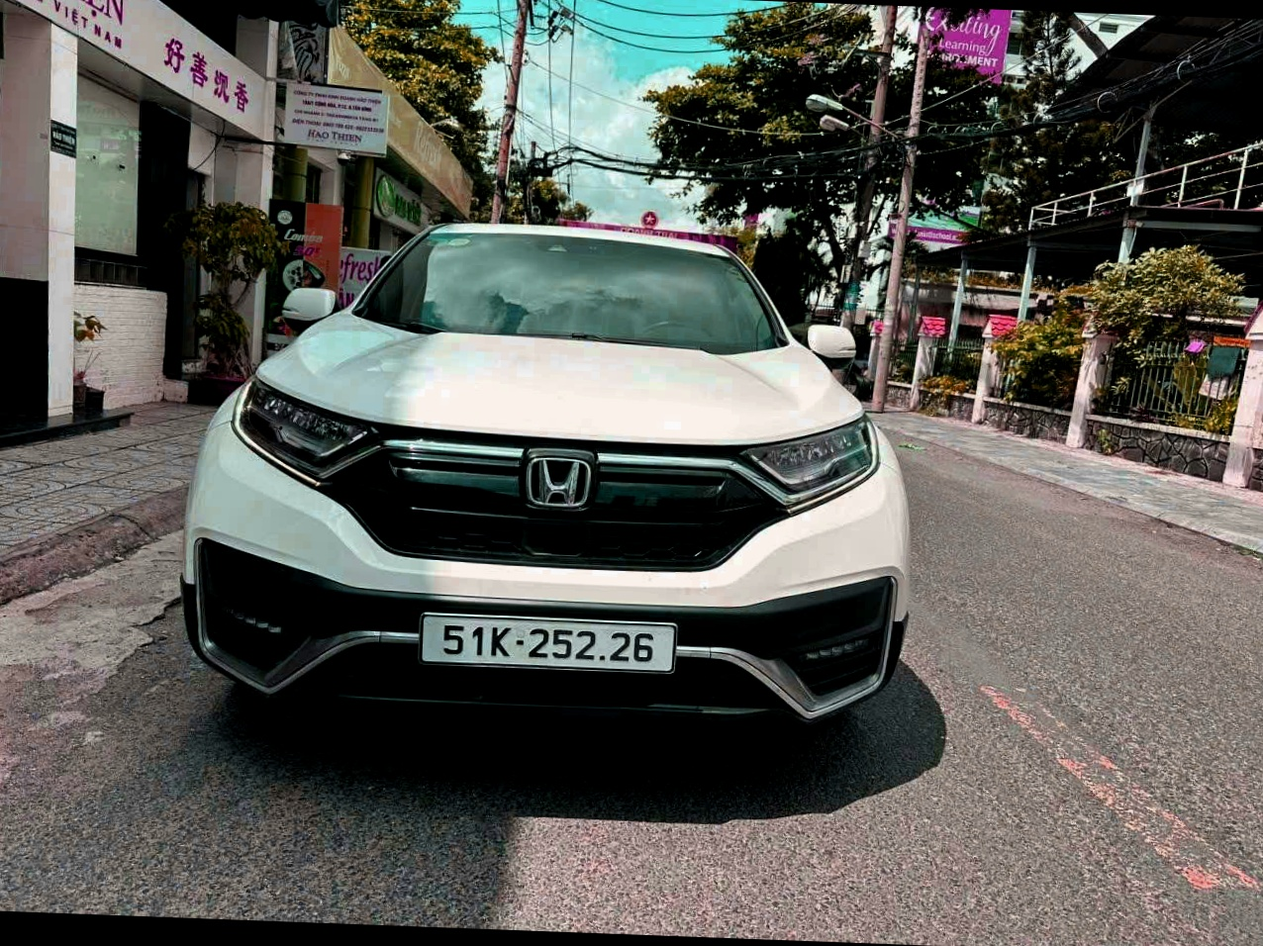Bien-so: (416, 603, 687, 676)
